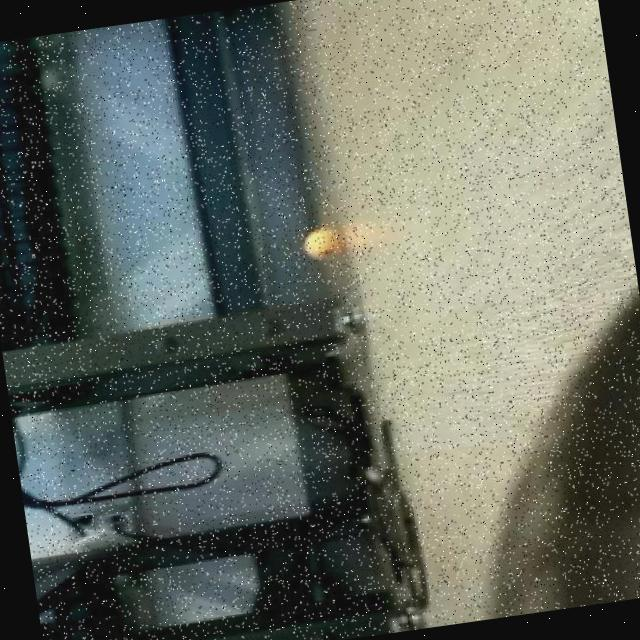ping-pong-ball: (295, 222, 350, 265)
